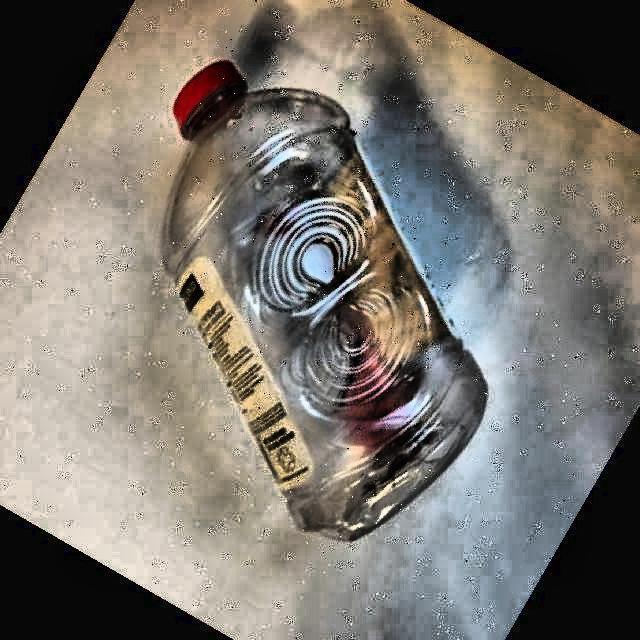plastic: (162, 61, 486, 539)
